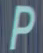Parking: (5, 1, 39, 52)
